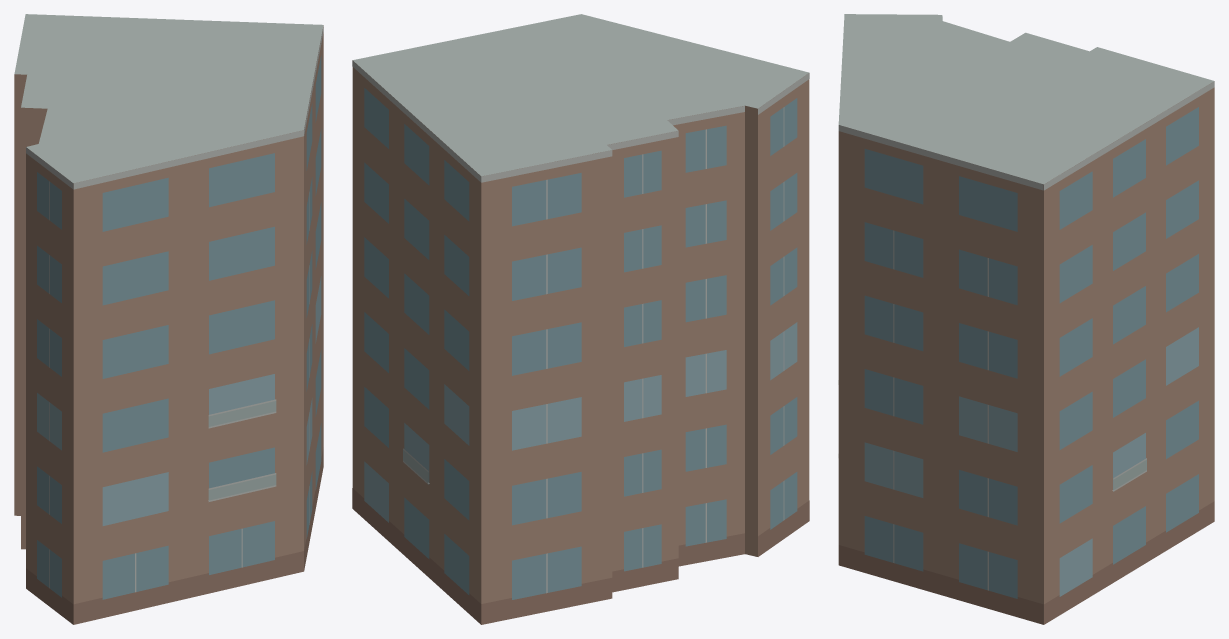
The model's file is survey-upis-32876283.glb.
3 views of the same model, side by side, from view 1: azimuth 30°, elevation 25°; view 2: azimuth 150°, elevation 25°; view 3: azimuth 270°, elevation 25° (orthographic).
Parts seen in each view (by area): view 1: survey-upis-32876283.tmp; view 2: survey-upis-32876283.tmp; view 3: survey-upis-32876283.tmp.
Boxes of the visible parts, x1,y1,x2,y2 form: survey-upis-32876283.tmp: (14,14,323,624); survey-upis-32876283.tmp: (352,14,809,624); survey-upis-32876283.tmp: (838,14,1214,624).
Bounding box in the file's own units: 14.28 × 17.2 × 13.32.
